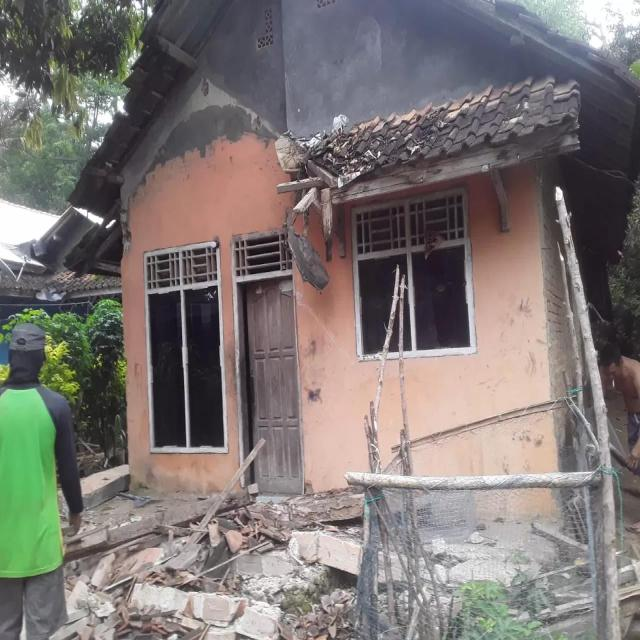damage: (52, 468, 384, 640), (266, 96, 372, 337)
